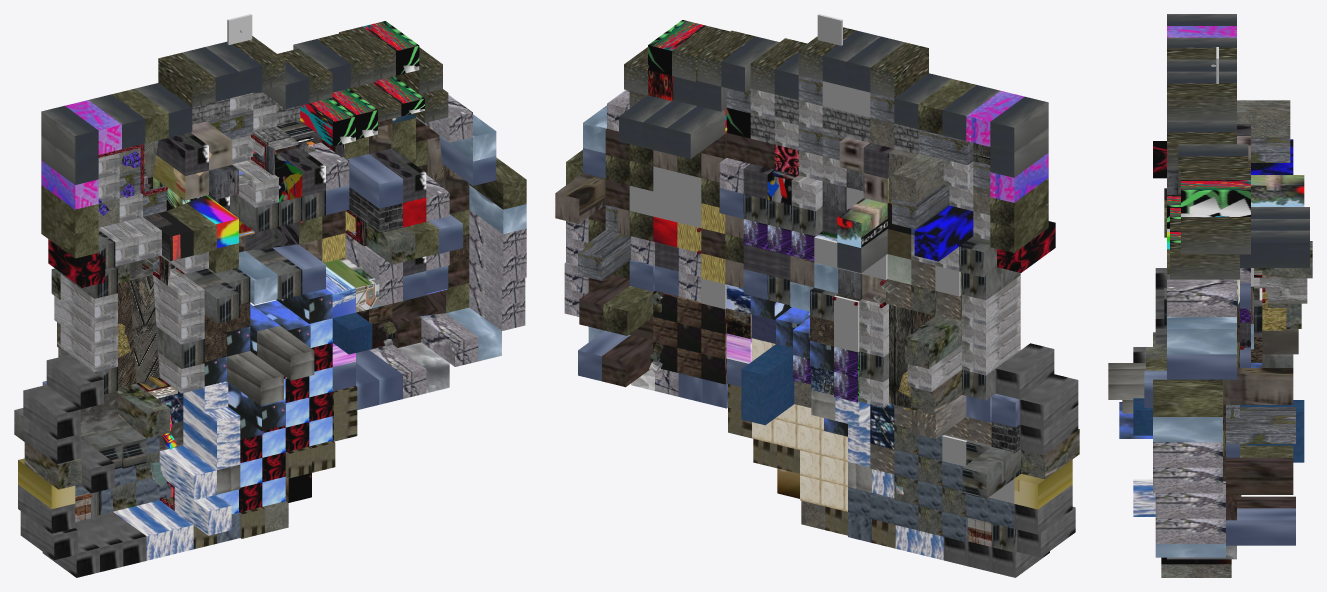
Rendered from dust2cyberiav4.glb.
3 views of the same model, side by side, from view 1: azimuth 30°, elevation 25°; view 2: azimuth 150°, elevation 25°; view 3: azimuth 270°, elevation 25° (orthographic). The views are drawn at different scales.
Parts seen in each view (by area): view 1: Cube.856, Cube.1221, Cube.1222, Cube.1242, Cube.1236, Cube.1305, Cube.1048, Cube.1304, Cube.1105, Cube.1037, Cube.1163, Cube.954 (+108 smaller); view 2: Cube.950, Cube.1222, Cube.1221, Cube.1242, Cube.1236, Cube.1223, Cube.862, Cube.1204, Cube.1166, Cube.1026, Cube.844, Cube.1051 (+88 smaller); view 3: Cube.1039, Cube.1040, Cube.1176, Cube.1226, Cube.1234, Cube.1227, Cube.985, Cube.1050, Cube.1173, Cube.1026, Cube.1225, Cube.1017 (+51 smaller).
Boxes of the visible parts, bbox=[...] form: Cube.856: bbox=[129, 275, 159, 383]; Cube.1221: bbox=[23, 385, 80, 439]; Cube.1222: bbox=[46, 354, 103, 409]; Cube.1242: bbox=[41, 105, 98, 160]; Cube.1236: bbox=[158, 52, 215, 107]; Cube.1305: bbox=[257, 325, 314, 380]; Cube.1048: bbox=[421, 313, 478, 366]; Cube.1304: bbox=[227, 351, 283, 405]; Cube.1105: bbox=[159, 445, 216, 500]; Cube.1037: bbox=[347, 154, 402, 208]; Cube.1163: bbox=[116, 383, 169, 438]; Cube.954: bbox=[300, 98, 355, 146]; Cube.950: bbox=[914, 205, 973, 261]; Cube.1222: bbox=[995, 343, 1054, 399]; Cube.1221: bbox=[1019, 374, 1078, 430]; Cube.1242: bbox=[990, 96, 1048, 152]; Cube.1236: bbox=[870, 42, 928, 98]; Cube.1223: bbox=[666, 106, 725, 158]; Cube.862: bbox=[905, 315, 961, 368]; Cube.1204: bbox=[962, 447, 1020, 498]; Cube.1166: bbox=[741, 344, 792, 400]; Cube.1026: bbox=[578, 230, 630, 280]; Cube.844: bbox=[892, 153, 943, 204]; Cube.1051: bbox=[602, 335, 653, 387]; Cube.1039: bbox=[1167, 279, 1236, 316]; Cube.1040: bbox=[1167, 317, 1236, 354]; Cube.1176: bbox=[1153, 379, 1222, 416]; Cube.1226: bbox=[1181, 217, 1250, 254]; Cube.1234: bbox=[1167, 83, 1236, 120]; Cube.1227: bbox=[1181, 180, 1250, 216]; Cube.985: bbox=[1226, 457, 1293, 494]; Cube.1050: bbox=[1226, 508, 1295, 545]; Cube.1173: bbox=[1223, 368, 1293, 404]; Cube.1026: bbox=[1226, 407, 1295, 443]; Cube.1225: bbox=[1240, 230, 1309, 267]; Cube.1017: bbox=[1170, 242, 1239, 279].
Bounding box in the file's own units: 400 × 405 × 146.
120 materials, 120 textured.
